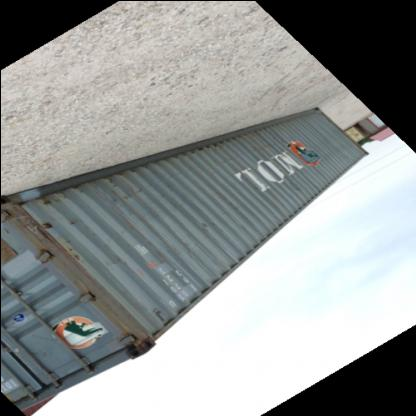Damage: (239, 132, 323, 194), (103, 180, 149, 216), (148, 245, 178, 272), (36, 186, 78, 204), (96, 252, 130, 274), (62, 237, 85, 269), (195, 216, 224, 234), (67, 214, 80, 234), (37, 219, 56, 232)
